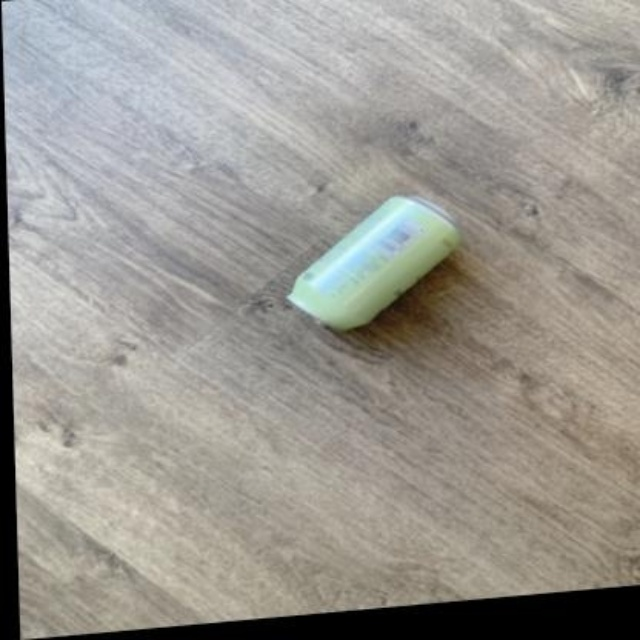trash: (288, 197, 458, 329)
